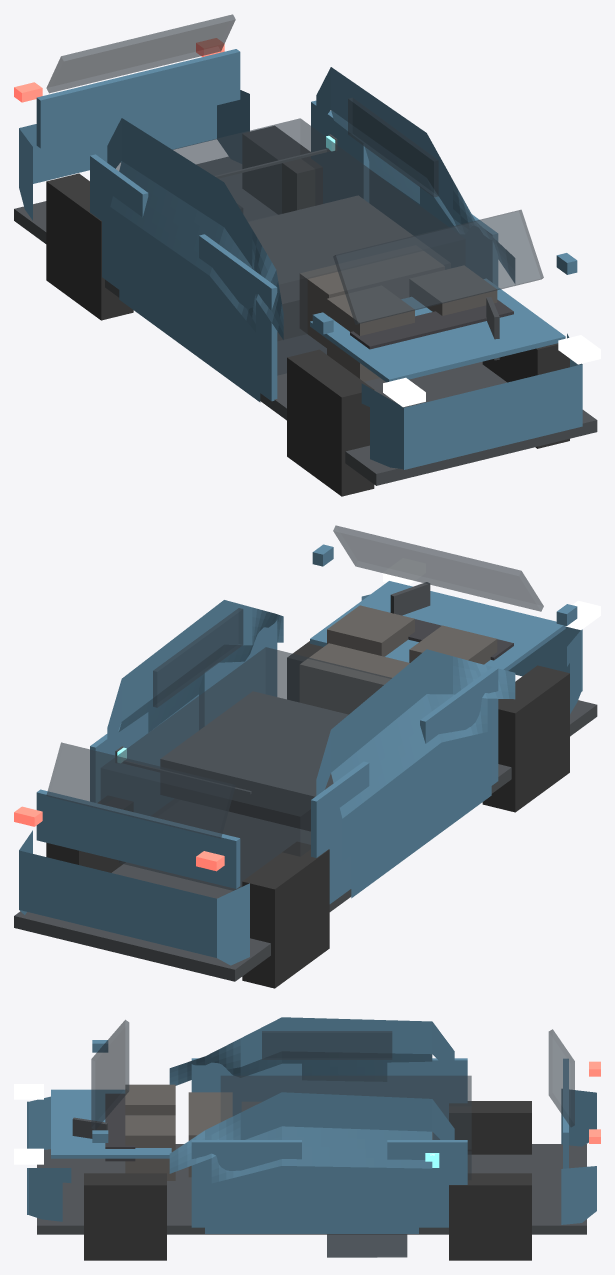
File: pickup_lod.glb
The picture shows the model from 3 angles, top to bottom: view 1: azimuth 30°, elevation 25°; view 2: azimuth 150°, elevation 25°; view 3: azimuth 270°, elevation 25°; orthographic projection. The views are drawn at different scales.
Parts seen in each view (by area): view 1: body_mesh, cab_mesh, windshield, tailgate_mesh, trim_mesh, wheel_well_mesh, tire_fr, frunk_mesh, tire_rr, rear_glass, seat_rear, tire_rl (+11 smaller); view 2: body_mesh, cab_mesh, wheel_well_mesh, trim_mesh, tailgate_mesh, rear_glass, tire_rr, tire_fr, windshield, frunk_mesh, seat_rear, door_fl_mesh (+11 smaller); view 3: body_mesh, trim_mesh, cab_mesh, tire_fl, tire_rl, tire_rr, frunk_mesh, window_fixed_r, door_fl_mesh, door_rl_mesh, door_fr_mesh, door_rr_mesh (+13 smaller).
Boxes of the visible parts, left/top/right/bottom form: body_mesh: left=19, top=67, right=582, bottom=469; cab_mesh: left=116, top=118, right=465, bottom=375; windshield: left=333, top=210, right=543, bottom=324; tailgate_mesh: left=36, top=49, right=240, bottom=148; trim_mesh: left=14, top=156, right=597, bottom=485; wheel_well_mesh: left=248, top=195, right=450, bottom=340; tire_fr: left=287, top=349, right=374, bottom=496; frunk_mesh: left=310, top=278, right=565, bottom=382; tire_rr: left=46, top=173, right=133, bottom=320; rear_glass: left=46, top=14, right=235, bottom=93; seat_rear: left=299, top=245, right=444, bottom=347; tire_rl: left=242, top=126, right=322, bottom=214; body_mesh: left=19, top=594, right=582, bottom=965; cab_mesh: left=101, top=647, right=391, bottom=890; wheel_well_mesh: left=160, top=691, right=348, bottom=831; trim_mesh: left=14, top=700, right=597, bottom=981; tailgate_mesh: left=36, top=789, right=240, bottom=888; rear_glass: left=46, top=742, right=235, bottom=838; tire_rr: left=242, top=841, right=329, bottom=988; tire_fr: left=482, top=665, right=569, bottom=812; windshield: left=333, top=525, right=543, bottom=611; frunk_mesh: left=310, top=581, right=565, bottom=670; seat_rear: left=299, top=643, right=409, bottom=714; door_fl_mesh: left=199, top=620, right=277, bottom=729; body_mesh: left=27, top=1017, right=596, bottom=1233; trim_mesh: left=37, top=1144, right=586, bottom=1234; cab_mesh: left=220, top=1075, right=471, bottom=1179; tire_fl: left=84, top=1173, right=166, bottom=1260; tire_rl: left=449, top=1173, right=531, bottom=1260; tire_rr: left=449, top=1101, right=531, bottom=1154; frunk_mesh: left=51, top=1089, right=171, bottom=1158; window_fixed_r: left=262, top=1031, right=392, bottom=1059; door_fl_mesh: left=191, top=1140, right=301, bottom=1227; door_rl_mesh: left=387, top=1140, right=467, bottom=1227; door_fr_mesh: left=191, top=1058, right=301, bottom=1115; door_rr_mesh: left=387, top=1058, right=467, bottom=1139.
Bounding box in the file's own units: 2.22 × 2.23 × 5.85.
